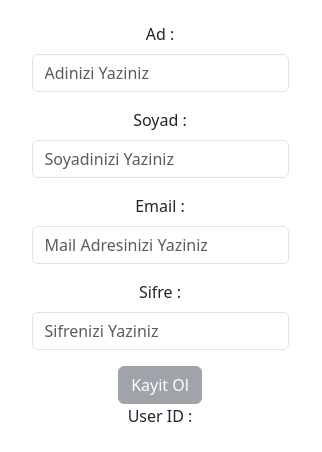
Test case: Tests › Error Messages › name input test fail for 2 characters
The image size is (322, 452).
Type "sr" into the field with test id "name-input" at (161, 73), box [32,54,289,92]
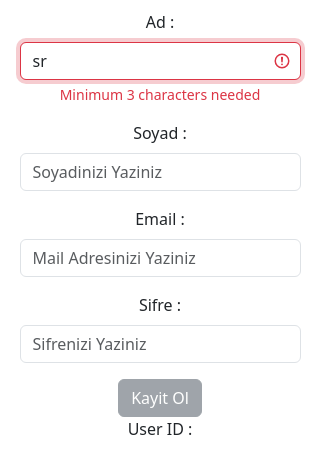
Expected: the text "Minimum 3 characters needed" is shown, [60,84,260,104]
